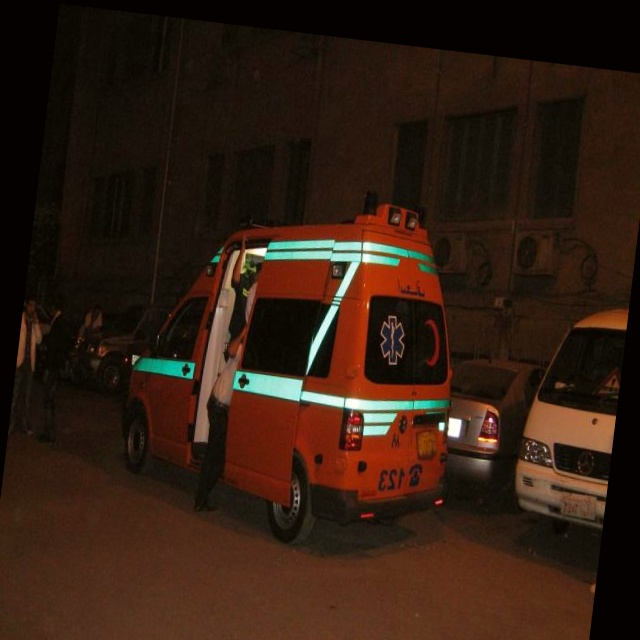Ambulance: (109, 164, 482, 564)
car: (436, 352, 548, 514)
